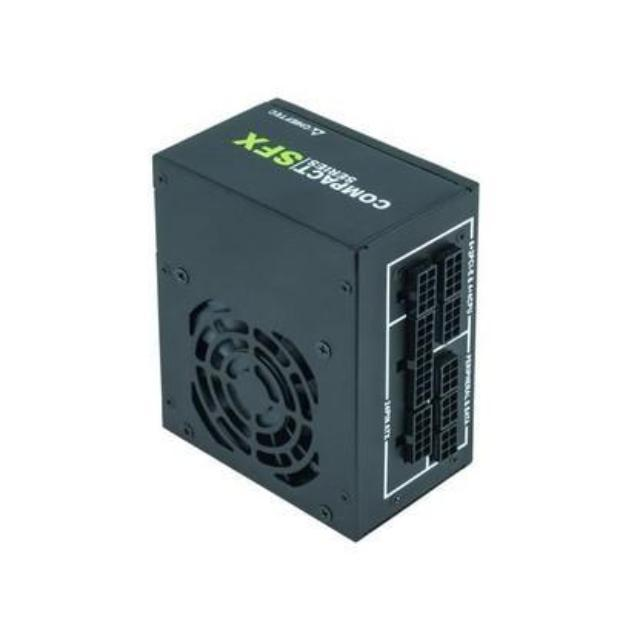PSU: (139, 83, 487, 546)
